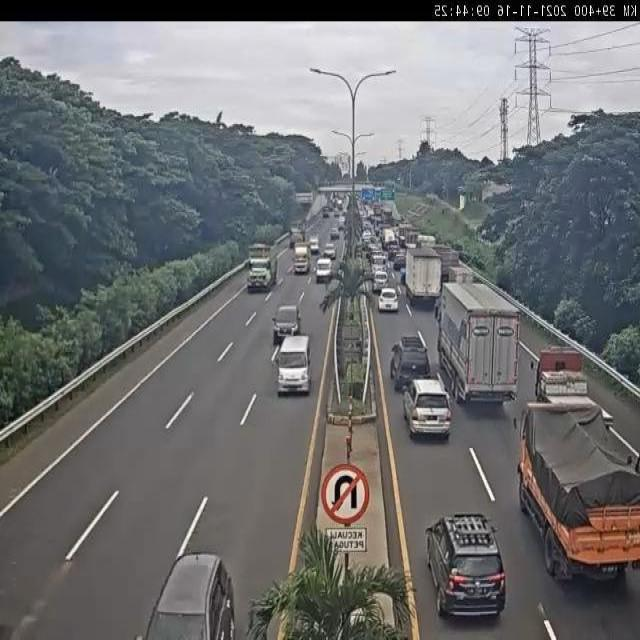Car: (134, 550, 236, 640), (425, 513, 507, 620), (402, 378, 452, 440), (388, 332, 434, 397), (272, 304, 302, 345), (378, 287, 400, 313), (387, 242, 401, 260), (393, 253, 406, 270), (323, 244, 336, 259), (330, 227, 339, 240)
Truck: (512, 401, 640, 582), (438, 281, 521, 406), (527, 344, 616, 431), (404, 246, 442, 306), (244, 238, 279, 293), (432, 244, 462, 280), (447, 263, 473, 288), (292, 244, 310, 274), (288, 225, 306, 247), (415, 233, 437, 249), (382, 228, 396, 252), (322, 204, 331, 217)
Van: (275, 334, 311, 396), (315, 256, 333, 283), (373, 269, 390, 295)
